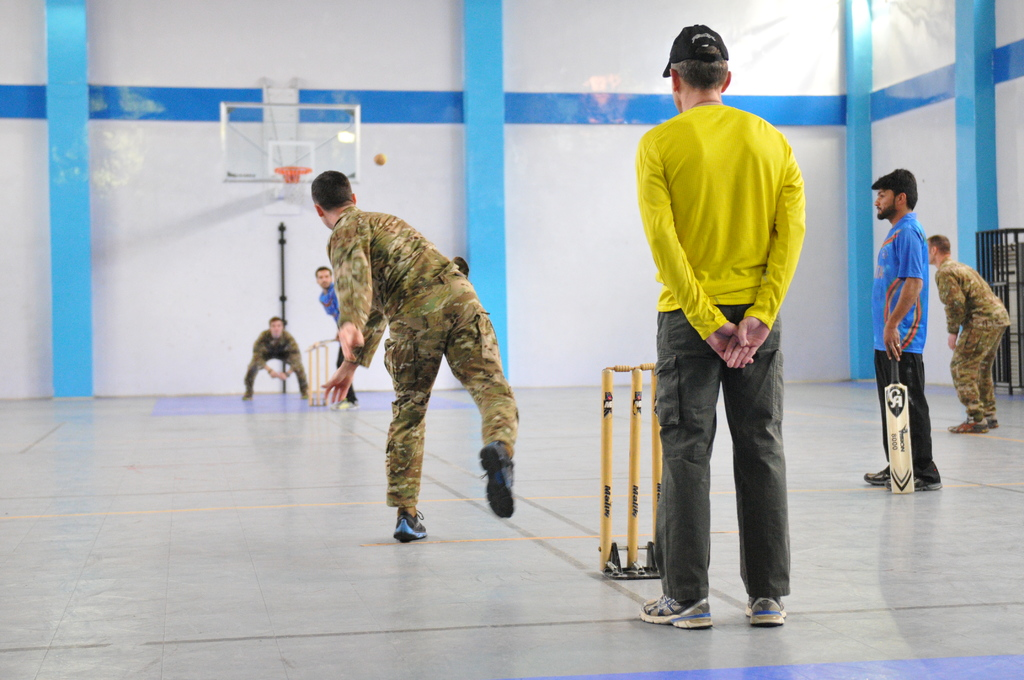Person: (636, 21, 806, 627), (310, 170, 520, 544), (863, 164, 943, 491), (927, 237, 1012, 434), (314, 267, 360, 409), (242, 314, 309, 401)
